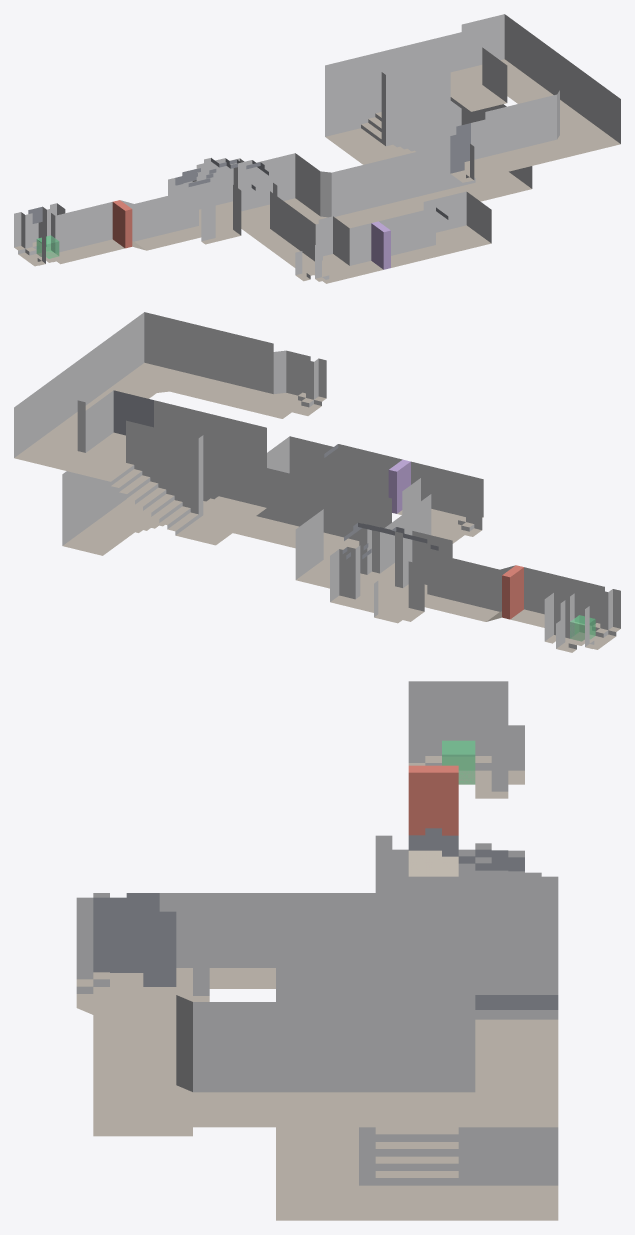
The model's file is outpost_08.glb.
The picture shows the model from 3 angles, top to bottom: view 1: azimuth 30°, elevation 25°; view 2: azimuth 150°, elevation 25°; view 3: azimuth 270°, elevation 25°; orthographic projection. The views are drawn at different scales.
Parts seen in each view (by area): view 1: room:5, corridor:0, corridor:4, corridor:1, corridor:3, room:1, room:4, room:1/portals, corridor:2, entities, room:0, room:3 (+5 smaller); view 2: room:5, corridor:0, corridor:4, corridor:1, room:1, room:1/portals, corridor:3, room:3, entities, room:0, room:4, room:2 (+7 smaller); view 3: corridor:0, room:5, corridor:4, room:0, corridor:2, room:2, entities, room:3, room:2/members, room:1/cavern, room:1, room:3/portals (+6 smaller).
Boxes of the visible parts, <box> form: room:5: <box>325,32,507,164</box>; corridor:0: <box>461,14,620,172</box>; corridor:4: <box>252,144,532,228</box>; corridor:1: <box>69,192,196,258</box>; corridor:3: <box>349,207,448,274</box>; room:1: <box>168,158,277,244</box>; room:4: <box>423,191,491,253</box>; room:1/portals: <box>184,160,252,241</box>; corridor:2: <box>249,191,311,264</box>; entities: <box>36,200,390,269</box>; room:0: <box>450,119,505,182</box>; room:3: <box>290,216,361,283</box>; room:5: <box>62,390,266,555</box>; corridor:0: <box>14,312,273,469</box>; corridor:4: <box>113,468,391,588</box>; corridor:1: <box>430,556,572,627</box>; room:1: <box>330,522,452,621</box>; room:1/portals: <box>339,531,443,611</box>; corridor:3: <box>324,444,434,514</box>; room:3: <box>402,467,475,543</box>; entities: <box>388,459,595,641</box>; room:0: <box>251,350,321,418</box>; room:4: <box>267,436,338,485</box>; room:2: <box>544,579,616,649</box>; corridor:0: <box>93,924,558,1127</box>; room:5: <box>375,876,558,1220</box>; corridor:4: <box>276,913,375,1220</box>; room:0: <box>76,897,176,1014</box>; corridor:2: <box>209,893,375,988</box>; room:2: <box>425,681,508,798</box>; entities: <box>408,740,475,835</box>; room:3: <box>143,893,209,1001</box>; room:2/members: <box>408,695,508,791</box>; room:1/cavern: <box>408,828,524,871</box>; room:1: <box>375,835,524,876</box>; room:3/portals: <box>193,921,209,995</box>.
Size of the model in its own units: 70 by 15 by 29.
